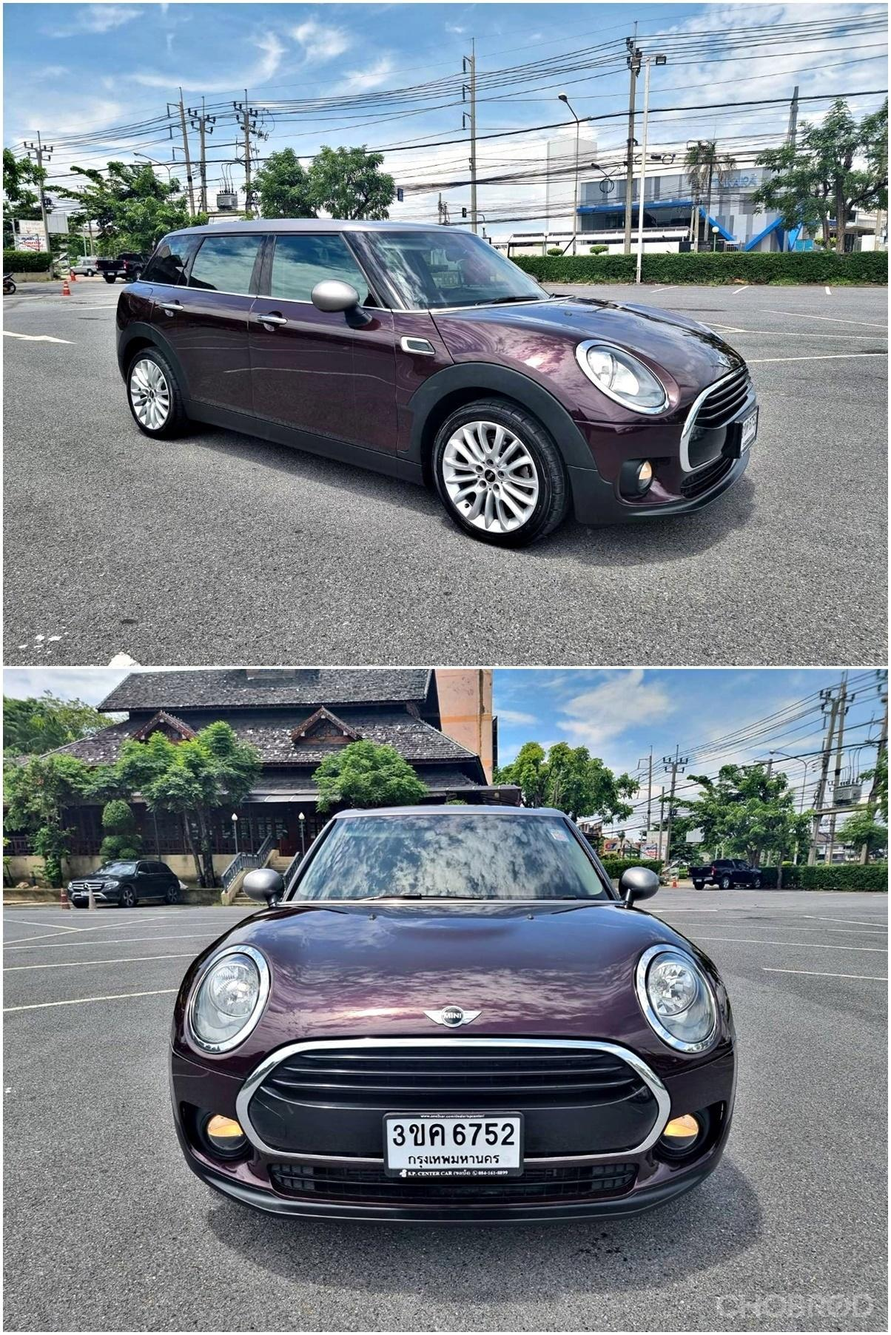license-plate: (376, 1104, 527, 1181), (729, 396, 768, 470)
